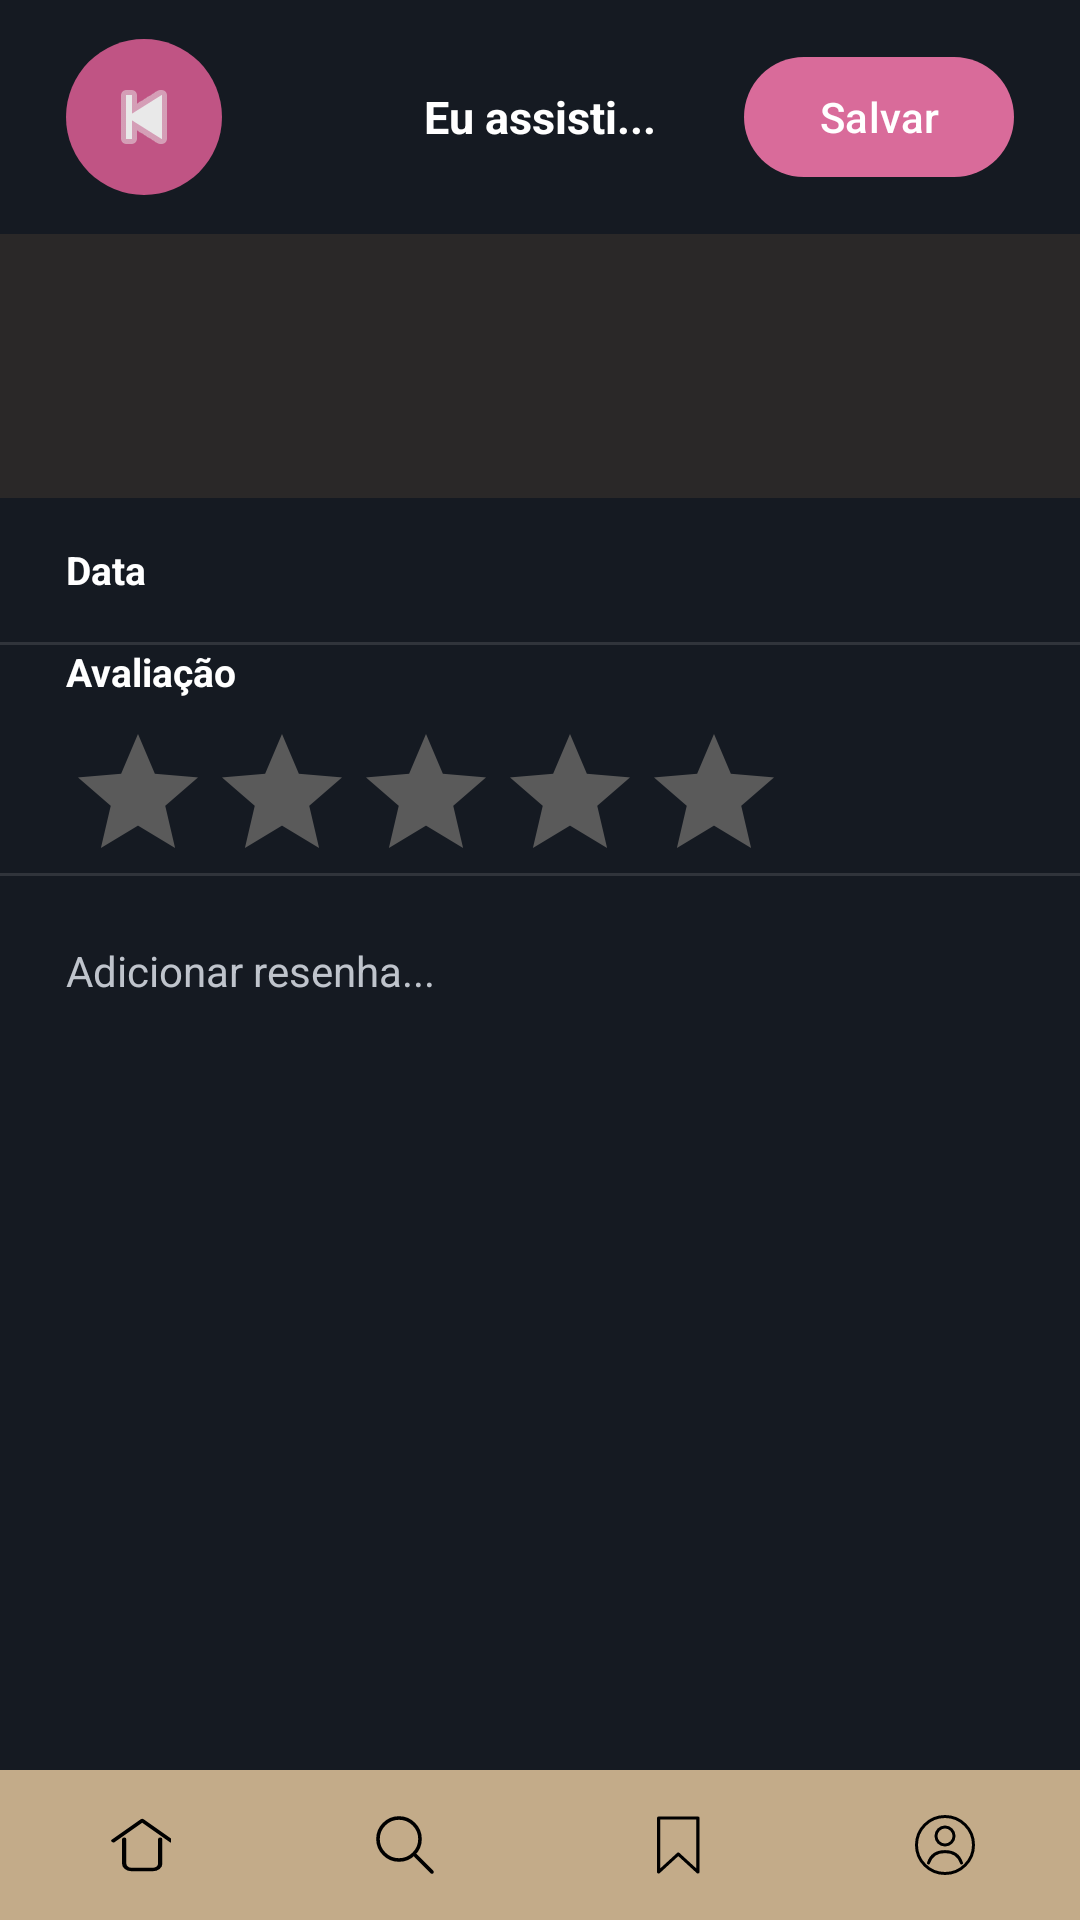

Where icons sit on this 1080 × 1920 app screen, as detection(x1, y1, x2, y2):
previous: detection(66, 39, 222, 195)
